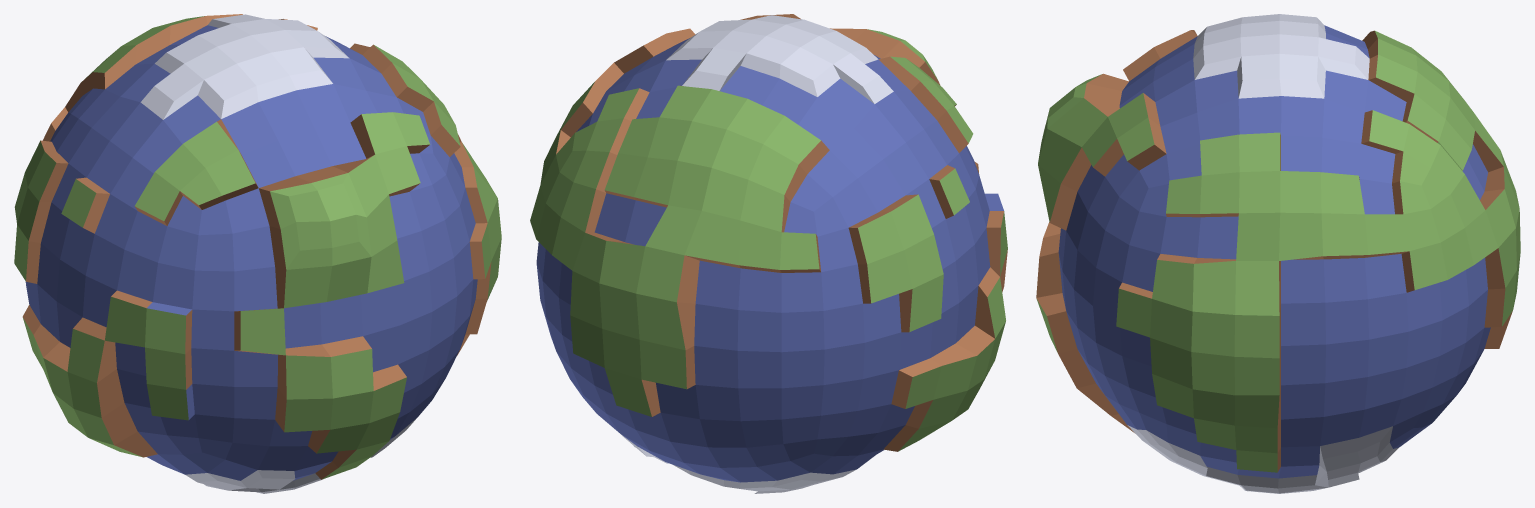
File: RealEarth.fbx
3 views of the same model, side by side, from view 1: azimuth 30°, elevation 25°; view 2: azimuth 150°, elevation 25°; view 3: azimuth 270°, elevation 25° (orthographic).
Parts seen in each view (by area): view 1: Earth.001; view 2: Earth.001; view 3: Earth.001.
Boxes of the visible parts, x1,y1,x2,y2 form: Earth.001: (14, 14, 501, 493); Earth.001: (530, 14, 1007, 493); Earth.001: (1036, 14, 1520, 493).
Bounding box in the file's own units: 185 × 182 × 183.
